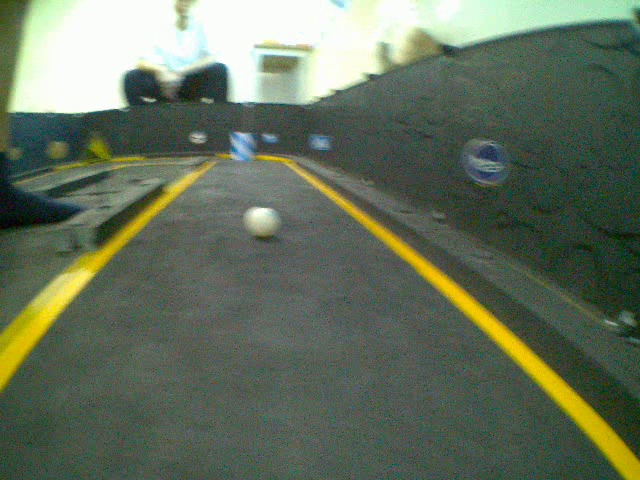ball: (239, 205, 284, 239)
